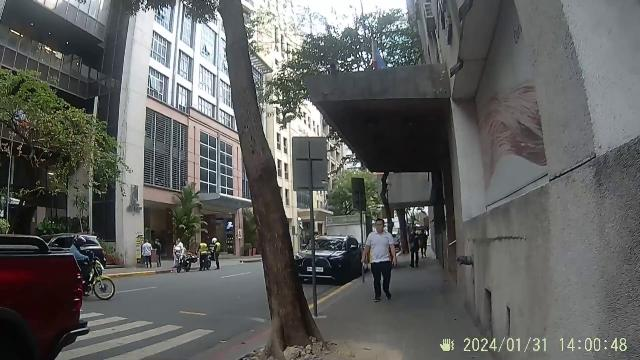street_sign: (289, 134, 331, 318)
tree: (218, 0, 324, 360)
